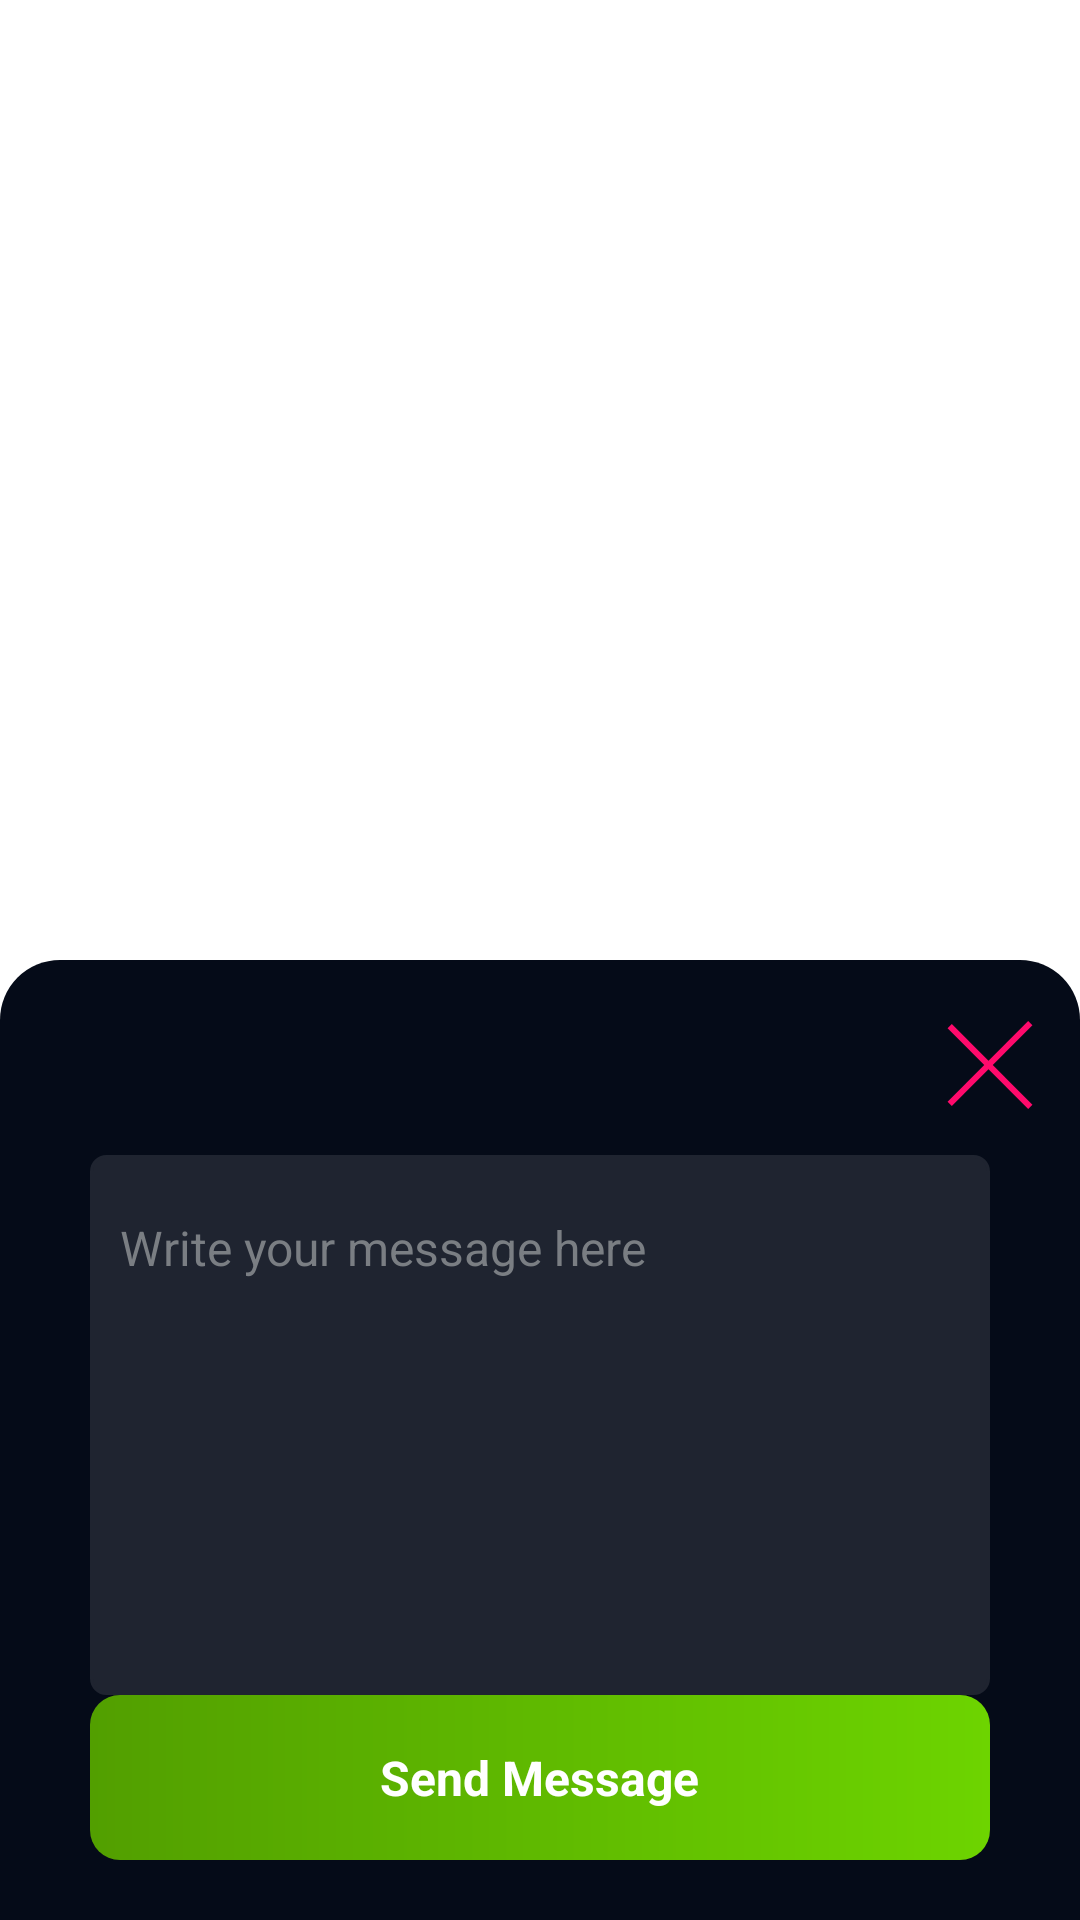

Screen size 1080w x 1920h. Icon name, then its box in pixels as [x1, y1, x2, y2]:
cross: [947, 1021, 1033, 1109]
